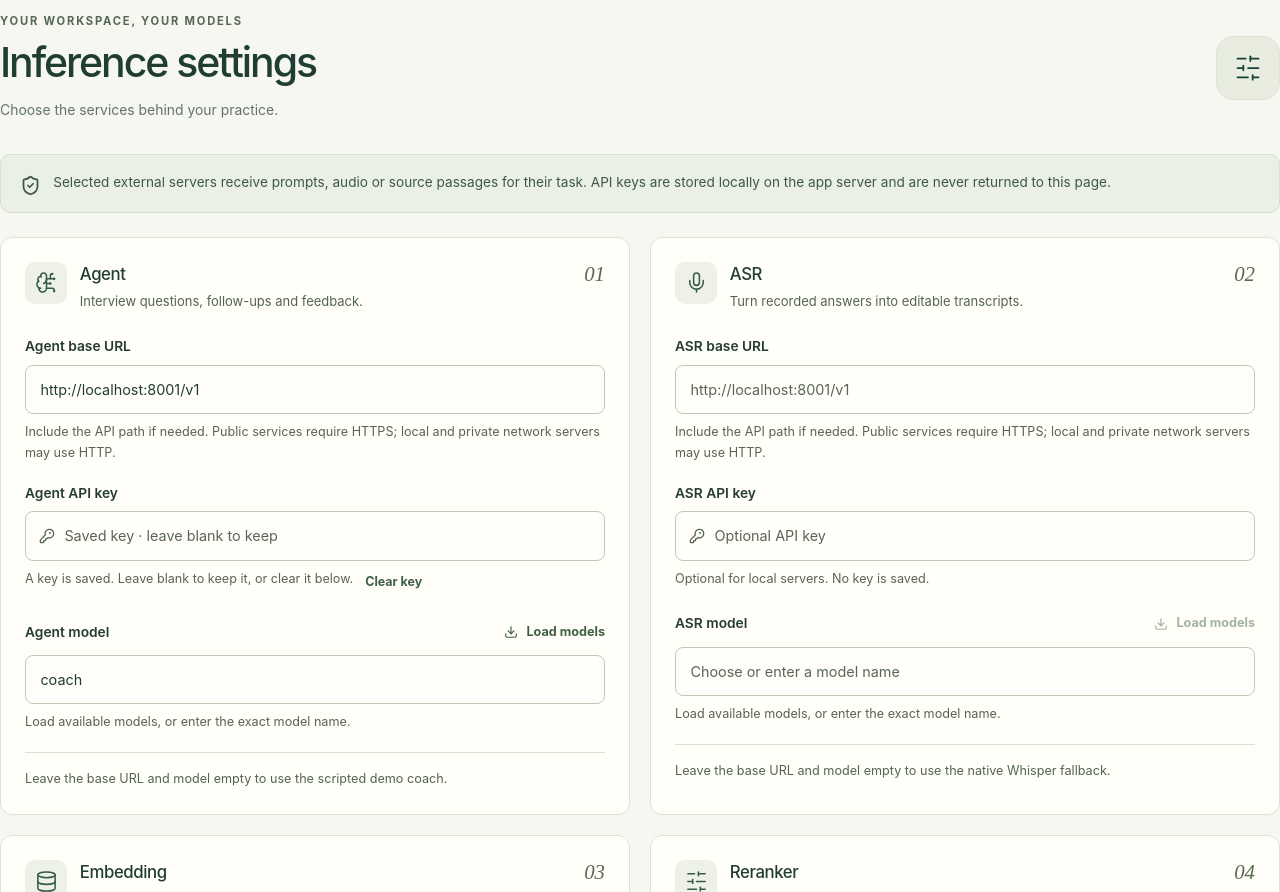
it: inference settings › supports explicit key removal and clears a newly submitted key from form memory after saving
The image size is (1280, 892).
Expected: the field labelled "Agent base URL" is shown, [25,365,605,414]
Click the button with aria-label "Clear Agent API key" at {"x": 394, "y": 583}, box [365,568,422,598]
(page scrolled)
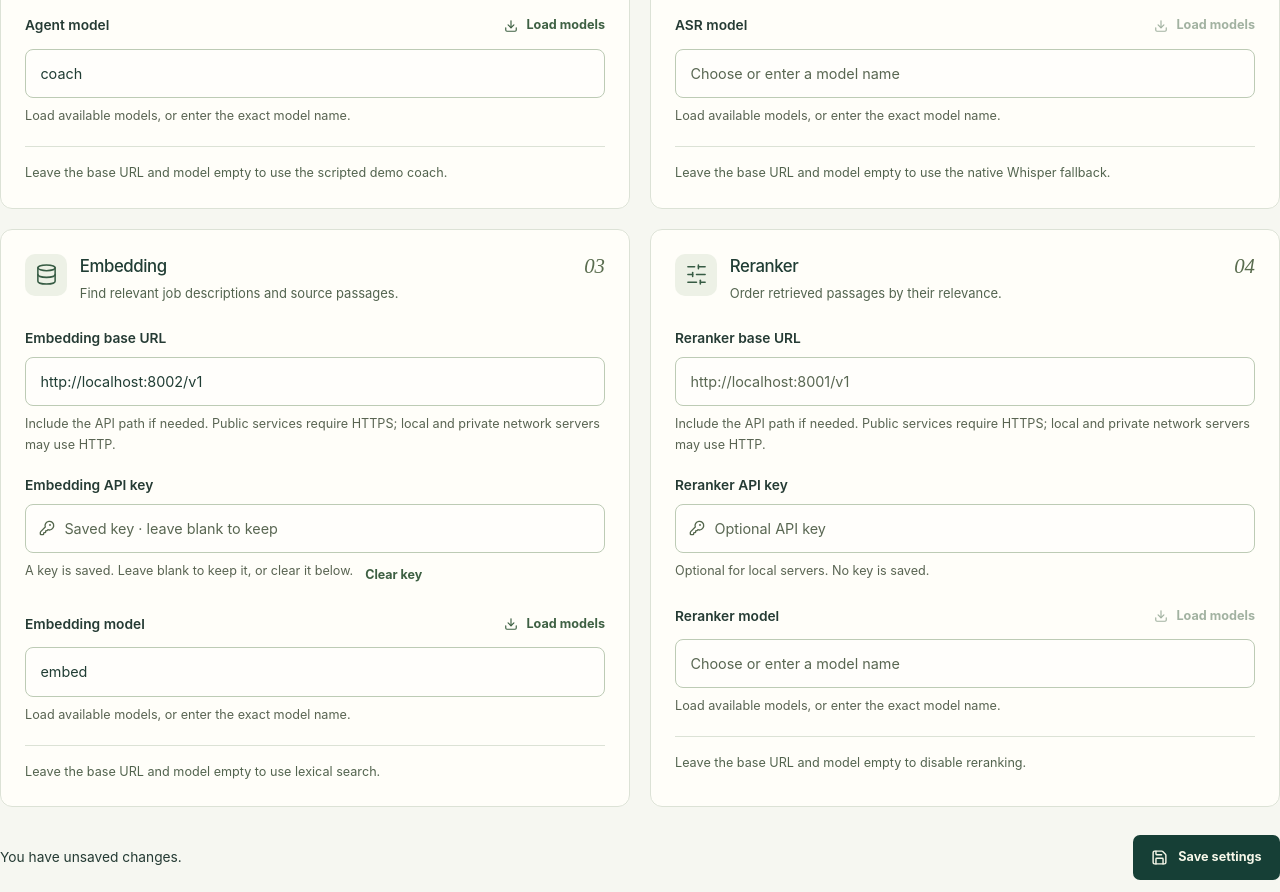
Type "test-new-key" into the password field labelled "Embedding API key" at {"x": 315, "y": 528}, box [25,504,605,553]
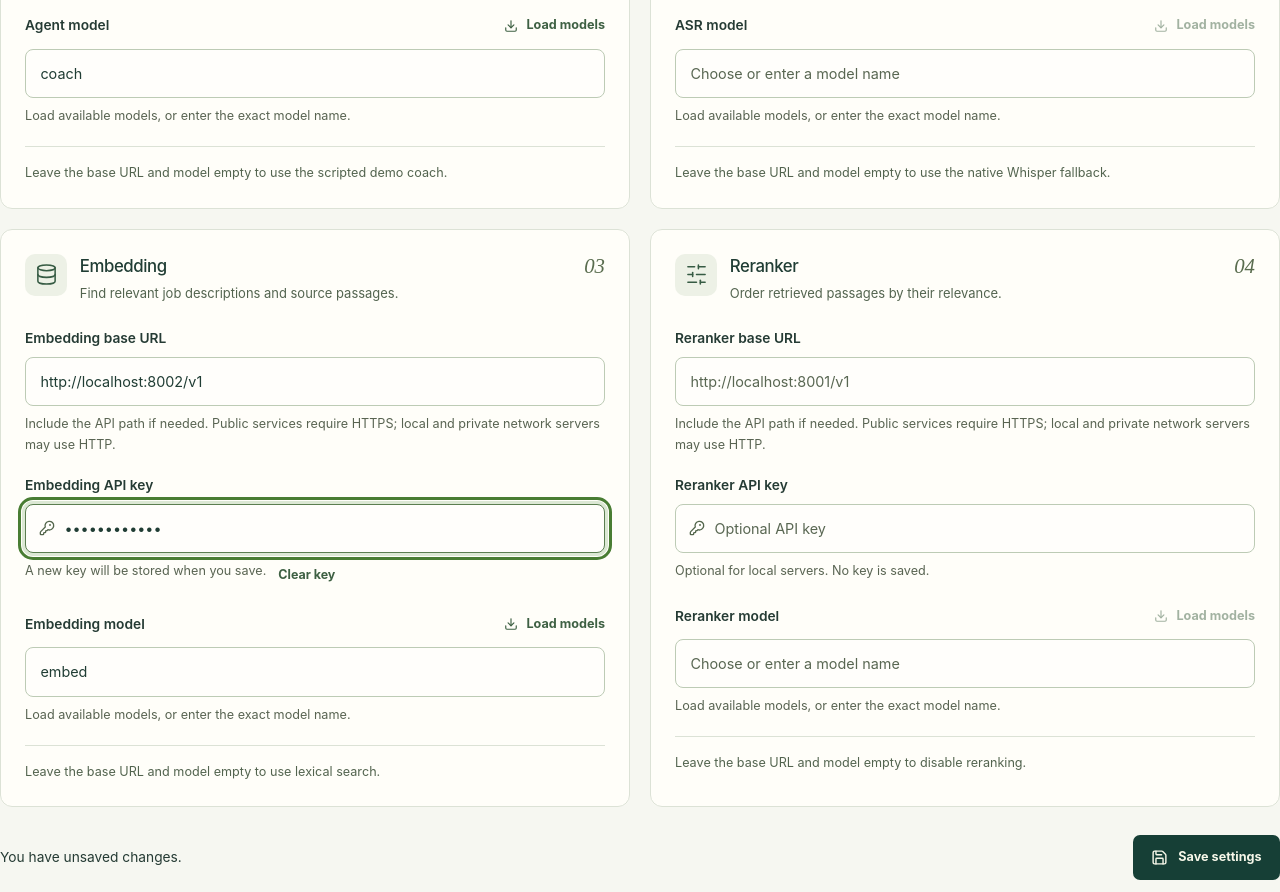
Click the button "Save settings" at {"x": 1206, "y": 858}, box [1133,835,1279,880]
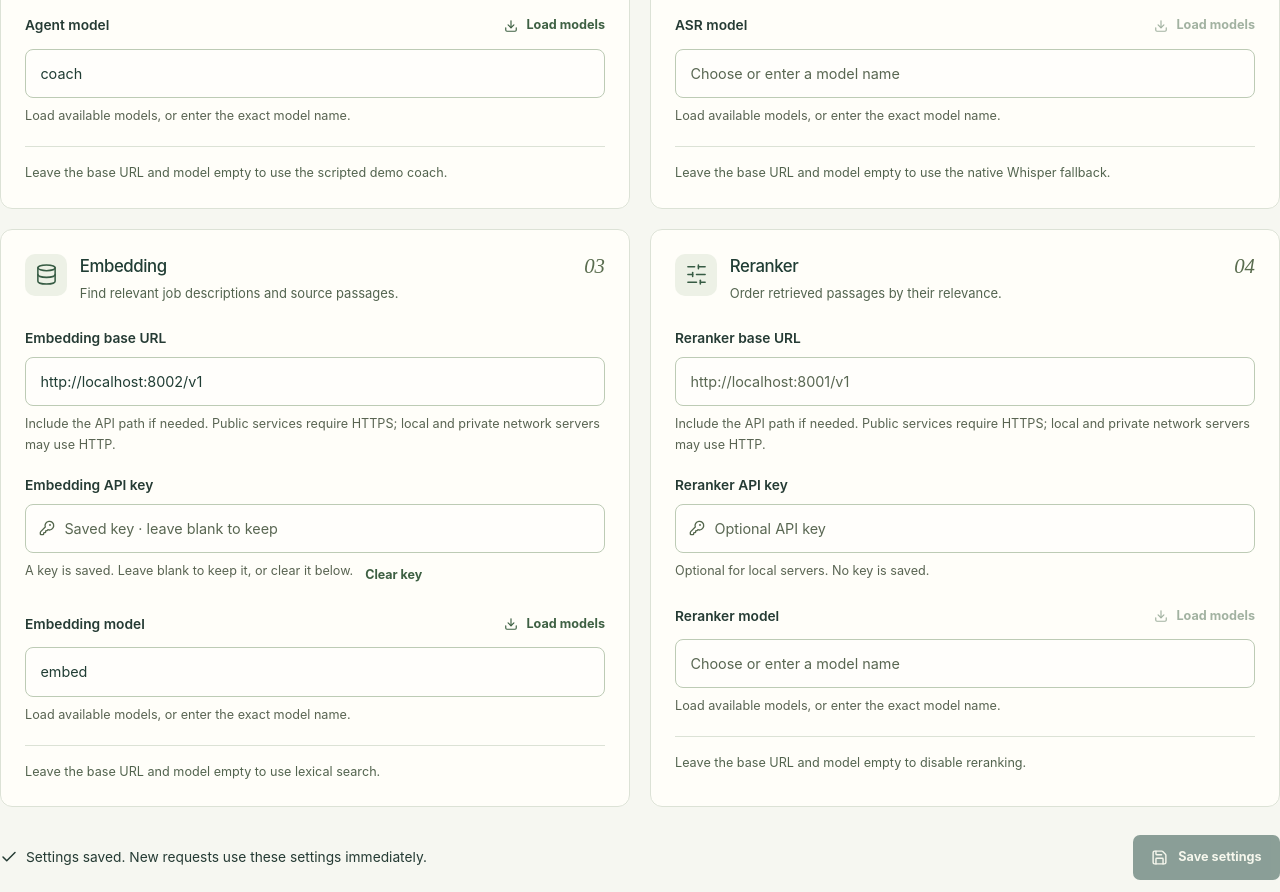
Now the text "Settings saved. New requests use these settings immediately." is shown, box [26,847,427,868]
Now the password field labelled "Embedding API key" is empty, box [25,504,605,553]
